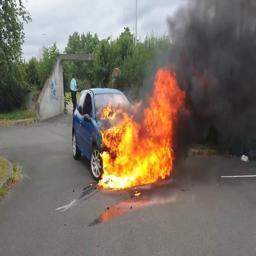fire: (99, 65, 185, 189)
